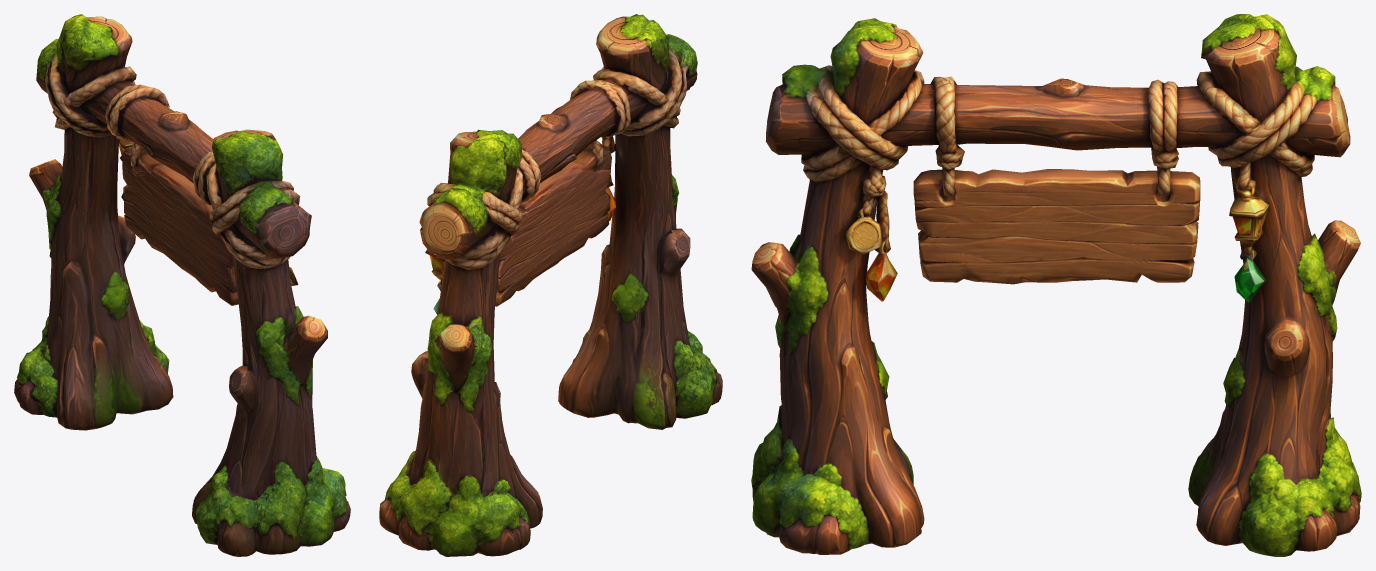
The model's file is W_Gate_raw.glb.
The picture shows the model from 3 angles, left to right: view 1: azimuth 30°, elevation 25°; view 2: azimuth 150°, elevation 25°; view 3: azimuth 270°, elevation 25°; orthographic projection. The views are drawn at different scales.
Parts seen in each view (by area): view 1: tripo_node_83b014a6-a539-41fa-8df6-d54185b81b7a; view 2: tripo_node_83b014a6-a539-41fa-8df6-d54185b81b7a; view 3: tripo_node_83b014a6-a539-41fa-8df6-d54185b81b7a.
Part boxes in pixels (x1,y1,x2,y2): tripo_node_83b014a6-a539-41fa-8df6-d54185b81b7a: (14,14,350,556); tripo_node_83b014a6-a539-41fa-8df6-d54185b81b7a: (379,14,722,556); tripo_node_83b014a6-a539-41fa-8df6-d54185b81b7a: (751,14,1361,556).
Bounding box in the file's own units: 0.3309 × 0.8792 × 1.
1 material, 1 textured.
